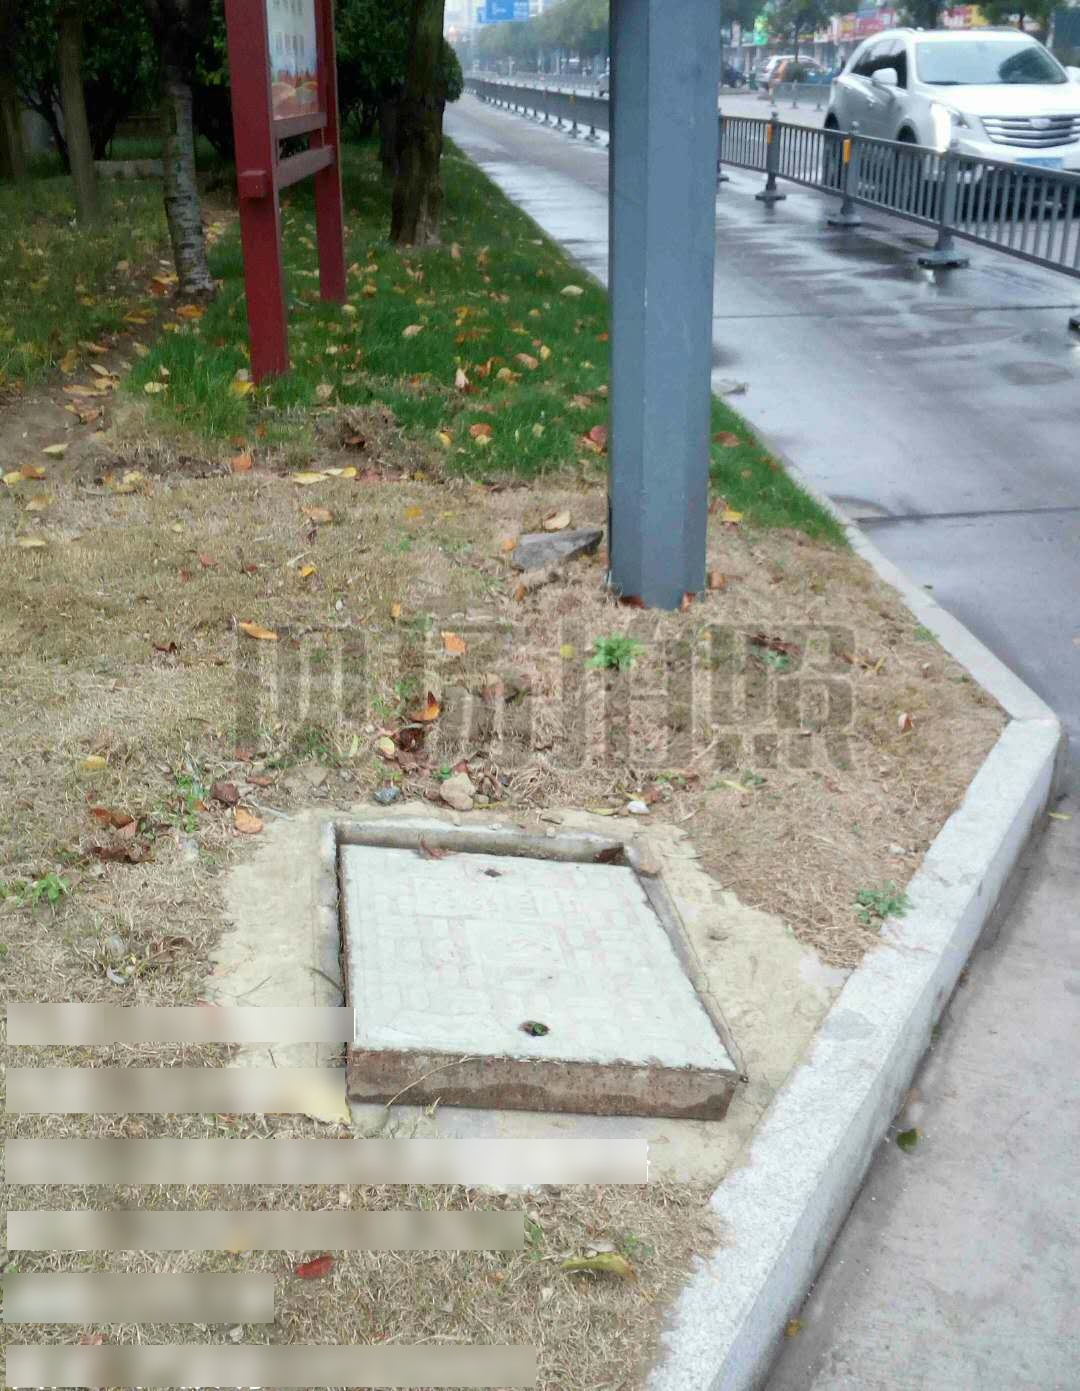uncovered: (322, 814, 743, 1127)
